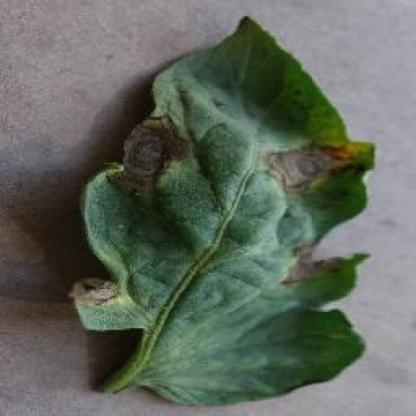Tomato_Blight: (73, 19, 369, 402)
